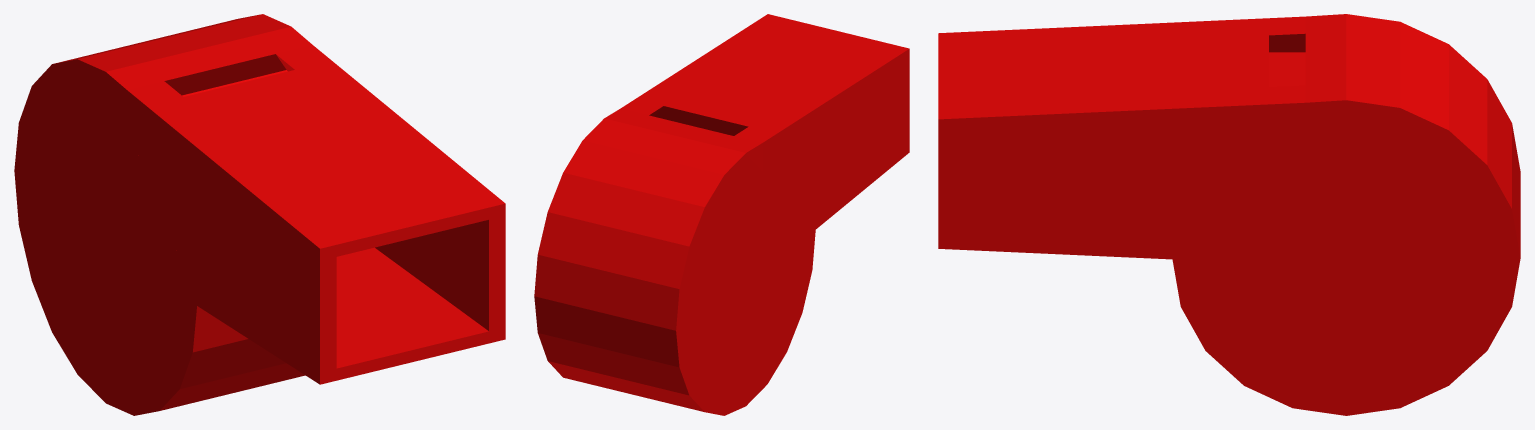
File: whistle.fbx
3 views of the same model, side by side, from view 1: azimuth 30°, elevation 25°; view 2: azimuth 150°, elevation 25°; view 3: azimuth 270°, elevation 25° (orthographic). The views are drawn at different scales.
Parts seen in each view (by area): view 1: Cube.001; view 2: Cube.001; view 3: Cube.001.
Boxes of the visible parts, x1,y1,x2,y2 form: Cube.001: (14, 14, 505, 415); Cube.001: (534, 14, 909, 415); Cube.001: (938, 14, 1520, 415).
Bounding box in the file's own units: 1 × 1.71 × 2.85.
